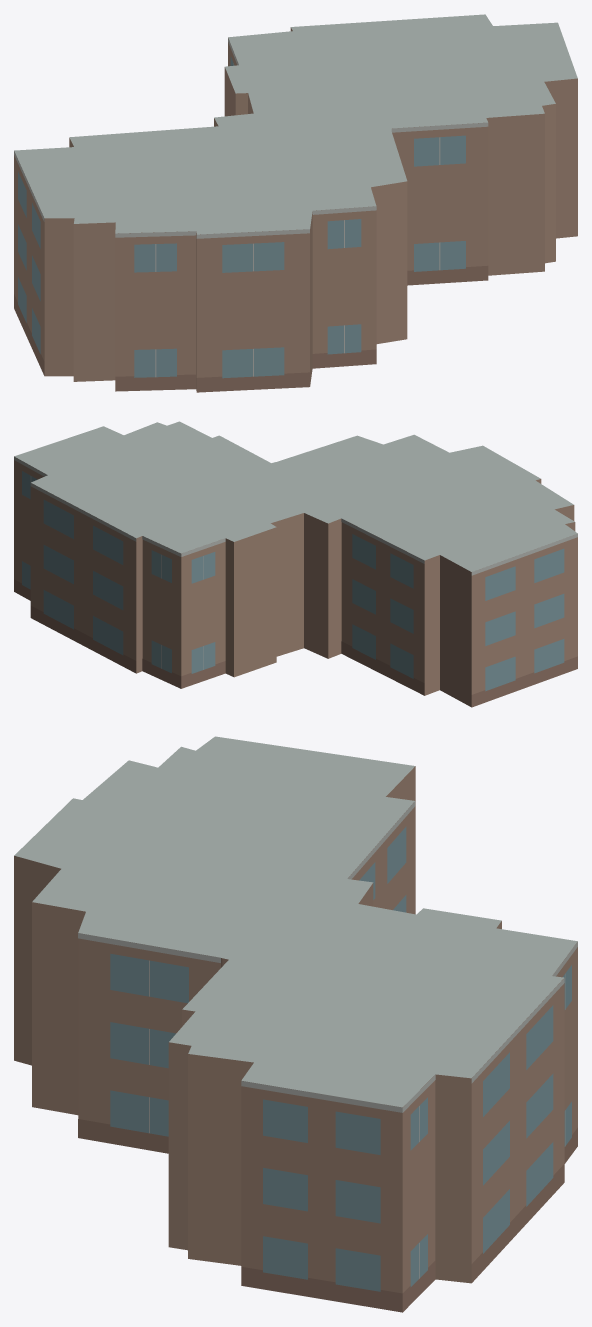
The model's file is survey-upis-32472226.glb.
3 views of the same model, one above another, from view 1: azimuth 30°, elevation 25°; view 2: azimuth 150°, elevation 25°; view 3: azimuth 270°, elevation 25° (orthographic). The views are drawn at different scales.
Parts seen in each view (by area): view 1: survey-upis-32472226.tmp; view 2: survey-upis-32472226.tmp; view 3: survey-upis-32472226.tmp.
Boxes of the visible parts, left/top/right/bottom form: survey-upis-32472226.tmp: left=14, top=14, right=577, bottom=392; survey-upis-32472226.tmp: left=14, top=421, right=577, bottom=707; survey-upis-32472226.tmp: left=14, top=736, right=577, bottom=1312.
Size of the model in its own units: 35.52 by 9.15 by 22.81.
